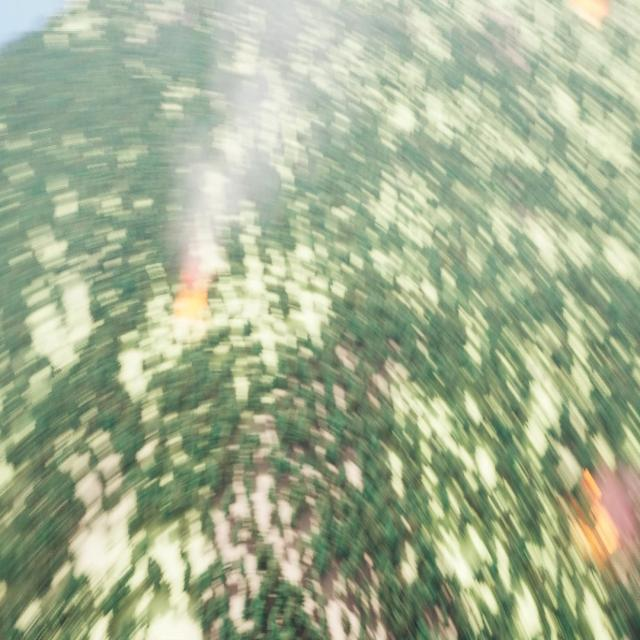fire: (578, 472, 620, 568), (171, 273, 208, 316)
smoke: (168, 0, 338, 262), (603, 460, 640, 583)
